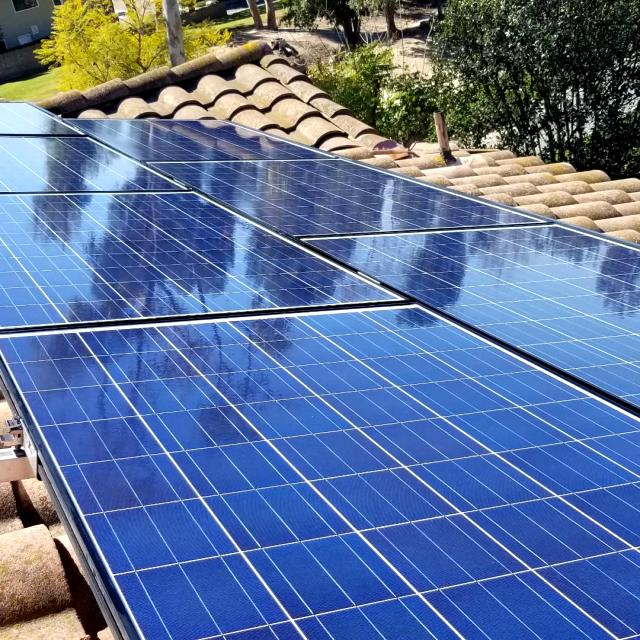crack: (338, 322, 538, 494), (71, 507, 312, 640), (243, 502, 470, 640), (416, 456, 612, 590), (32, 403, 210, 530), (218, 384, 366, 509), (153, 336, 316, 427), (2, 339, 142, 436), (401, 250, 584, 322), (68, 212, 213, 297), (10, 227, 116, 319), (146, 206, 248, 290), (283, 174, 360, 226)
